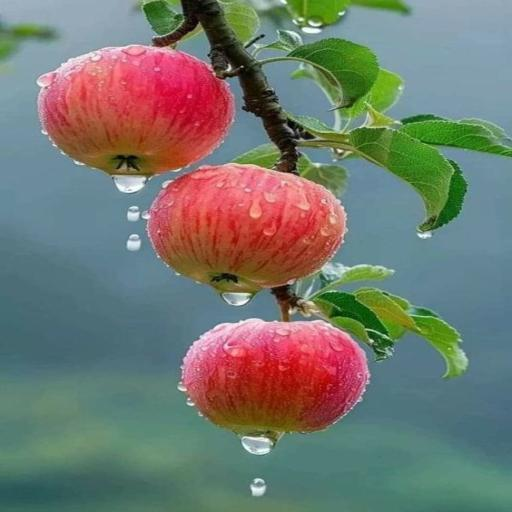apple: (34, 43, 234, 174), (148, 163, 347, 293), (181, 317, 372, 439)
